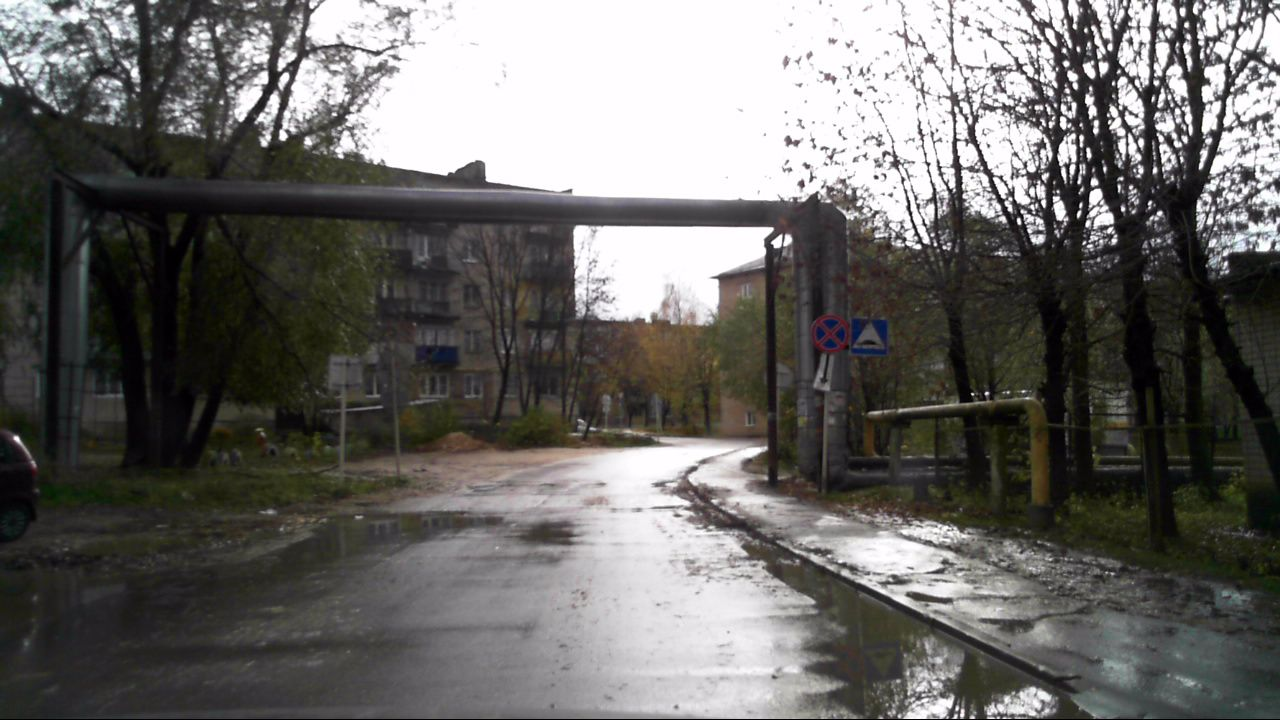No Parking: (811, 315, 849, 352)
